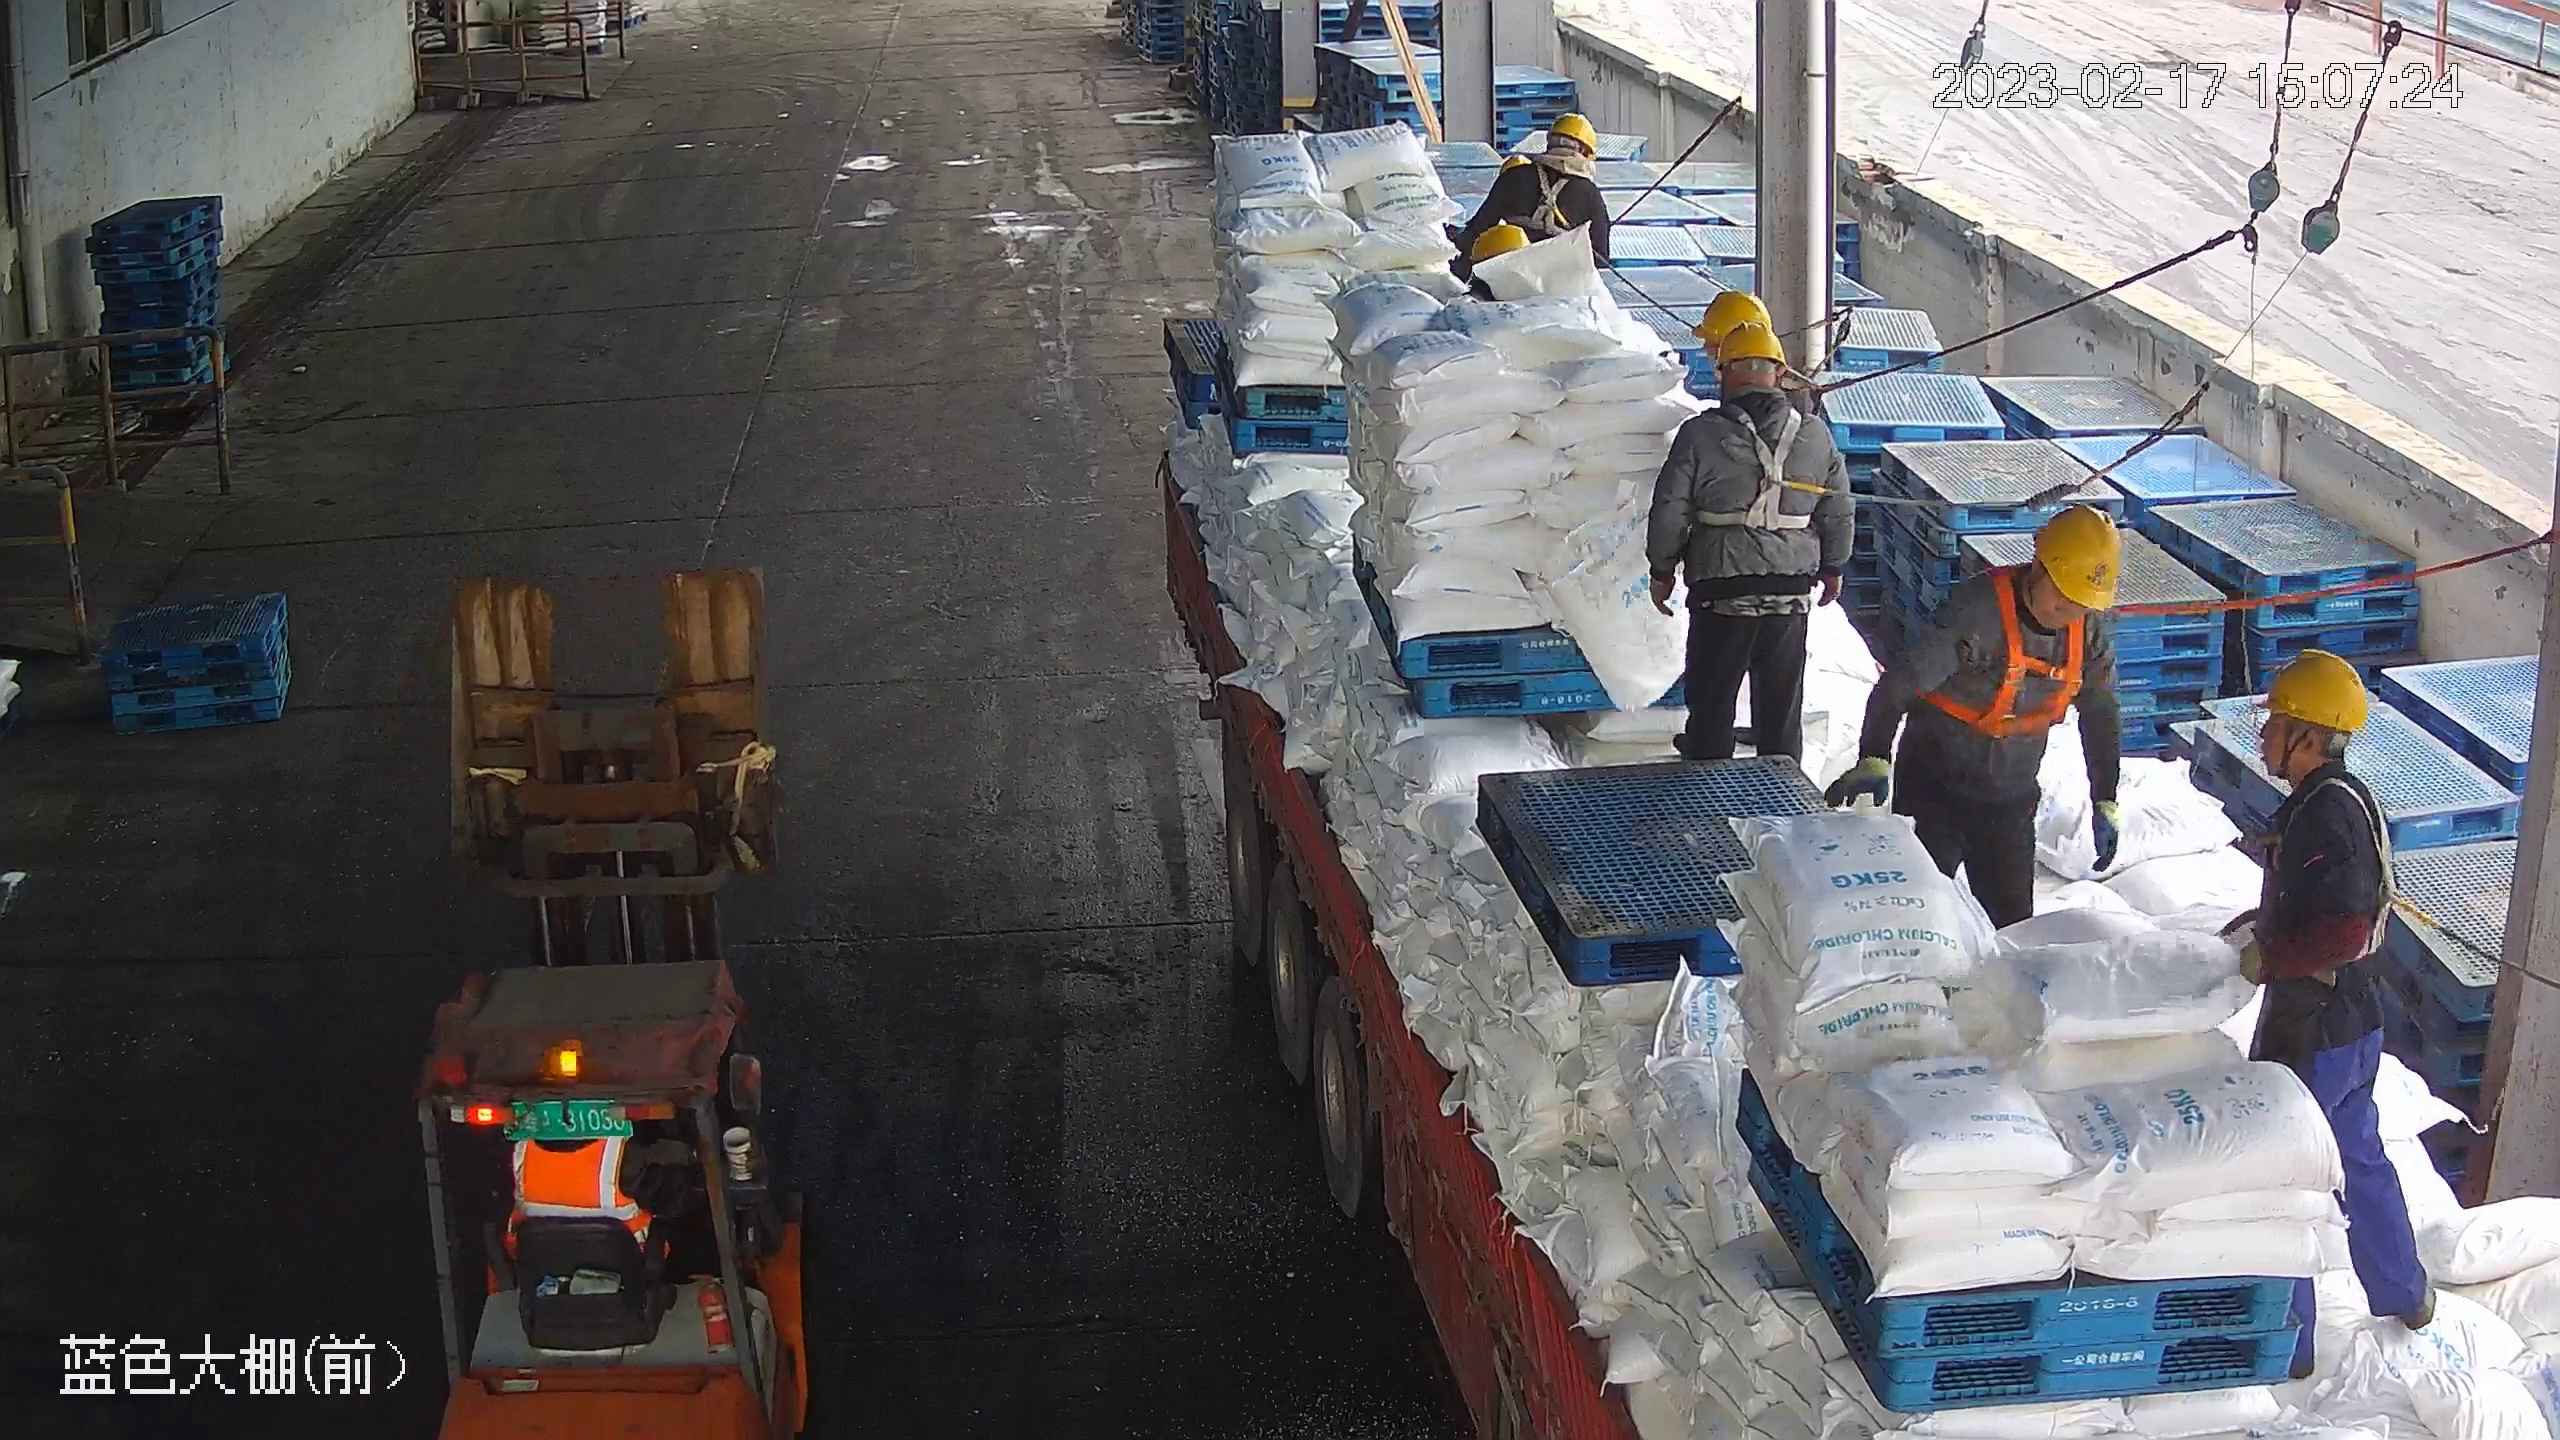belt: (1919, 569, 2106, 738), (2294, 769, 2403, 967), (1697, 405, 1826, 544), (1507, 158, 1591, 238)
head: (2239, 653, 2397, 851), (1941, 506, 2123, 663), (1665, 325, 1835, 477), (1468, 111, 1603, 221)
helmet: (2258, 650, 2371, 738), (2035, 500, 2119, 612), (1694, 292, 1778, 344), (1713, 327, 1787, 373), (1468, 221, 1530, 263), (1548, 111, 1597, 154)
people: (2228, 648, 2443, 1379), (1826, 503, 2123, 931), (1642, 324, 1859, 769)
truck: (1156, 417, 2560, 1440)
